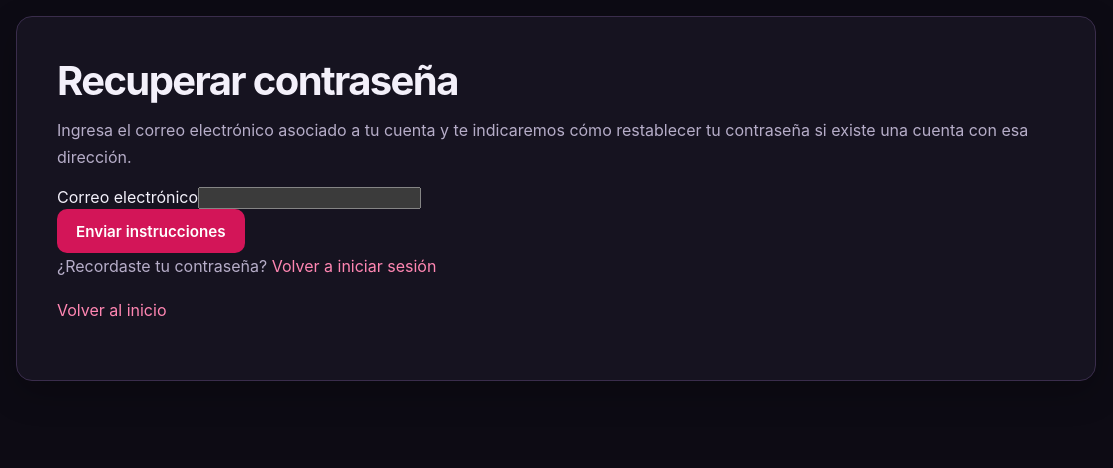
Test case: RecoverPasswordPage › envía la solicitud y muestra un mensaje neutral
The image size is (1113, 468).
Type "ana@example.com" into the field labelled "Correo electrónico" at coordinates (310, 198), box x1=198 y1=187 x2=421 y2=209
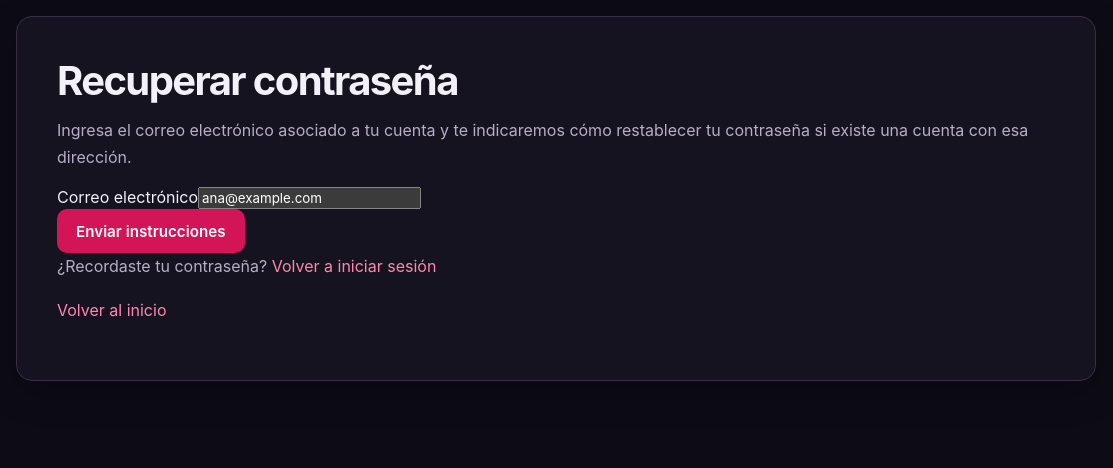
Click the button "Enviar instrucciones" at coordinates (151, 231), box x1=57 y1=209 x2=244 y2=253
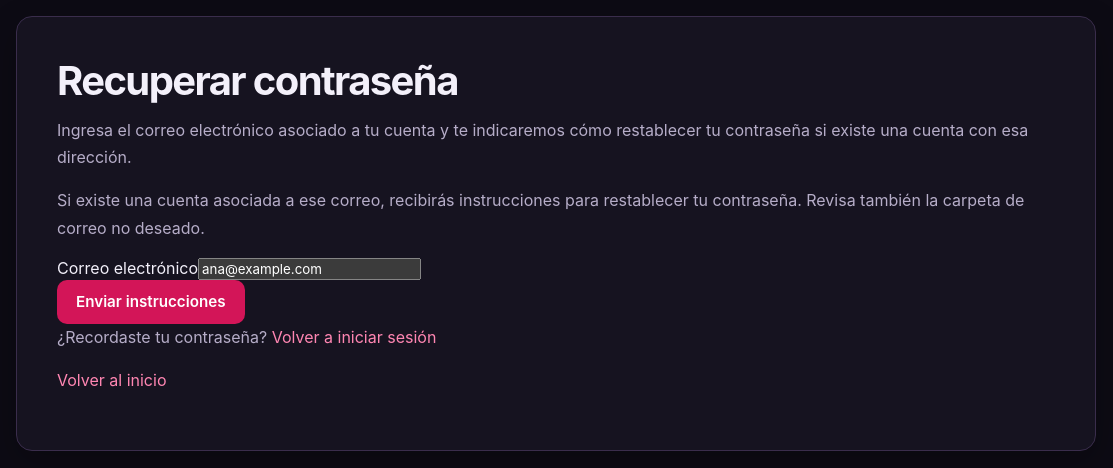
Check: the message shows "Si existe una cuenta asociada a ese correo, recibirás instrucciones", box x1=57 y1=190 x2=1024 y2=238
